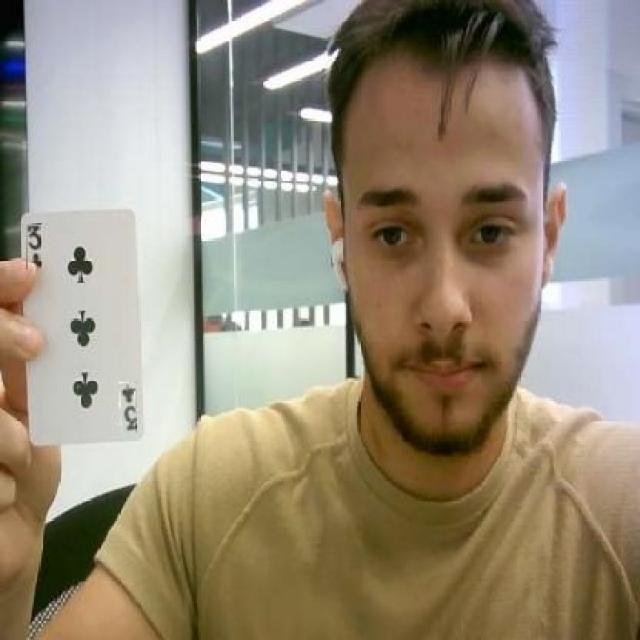3C: (118, 382, 137, 432), (26, 223, 42, 269)
